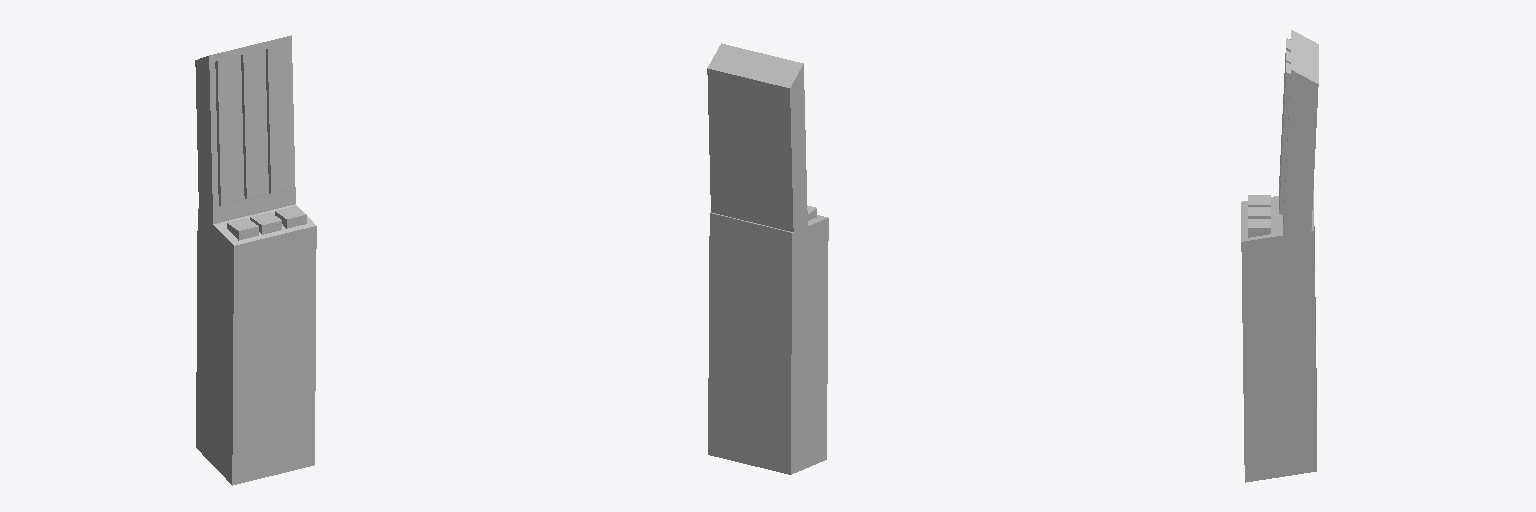
The model's file is Computer Trio.obj.
3 views of the same model, side by side, from view 1: azimuth 30°, elevation 25°; view 2: azimuth 150°, elevation 25°; view 3: azimuth 270°, elevation 25° (orthographic).
Parts seen in each view (by area): view 1: Computer Trio; view 2: Computer Trio; view 3: Computer Trio.
Part boxes in pixels (bbox=[...]): Computer Trio: bbox=[195, 35, 316, 485]; Computer Trio: bbox=[707, 43, 828, 474]; Computer Trio: bbox=[1241, 30, 1318, 482].
Bounding box in the file's own units: 4.08 × 19.48 × 3.3.